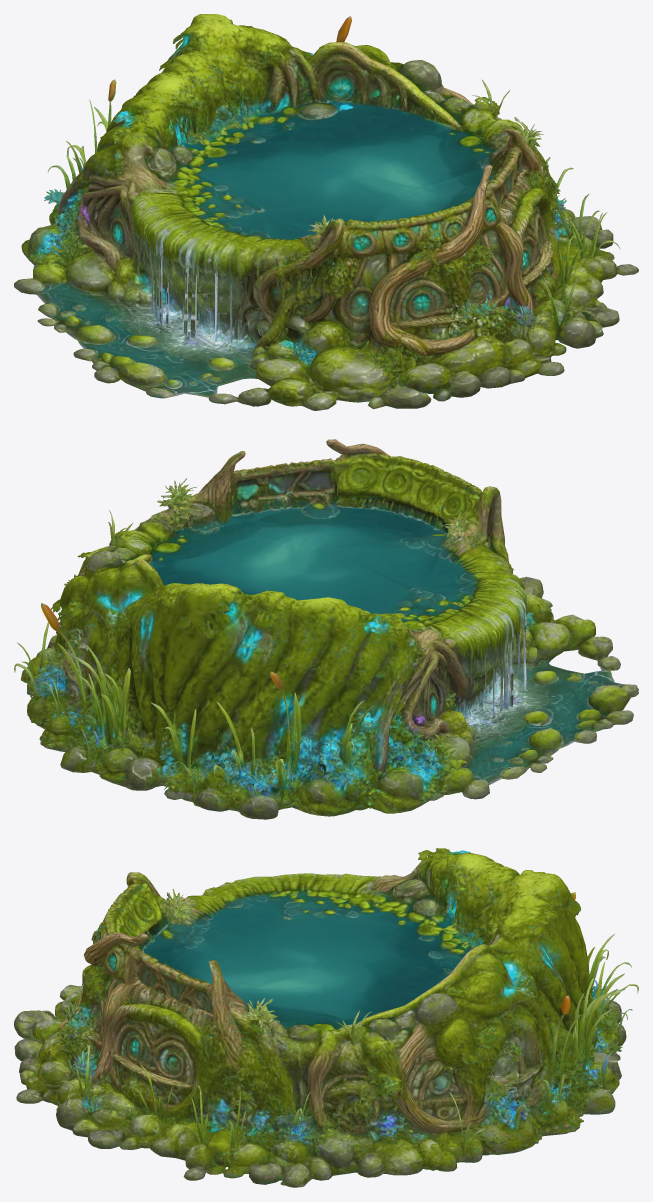
File: small-dam.glb
3 views of the same model, one above another, from view 1: azimuth 30°, elevation 25°; view 2: azimuth 150°, elevation 25°; view 3: azimuth 270°, elevation 25° (orthographic).
Size of the model in its own units: 1.86 by 0.6114 by 1.9.
Materials: 1 (1 with a texture image).
